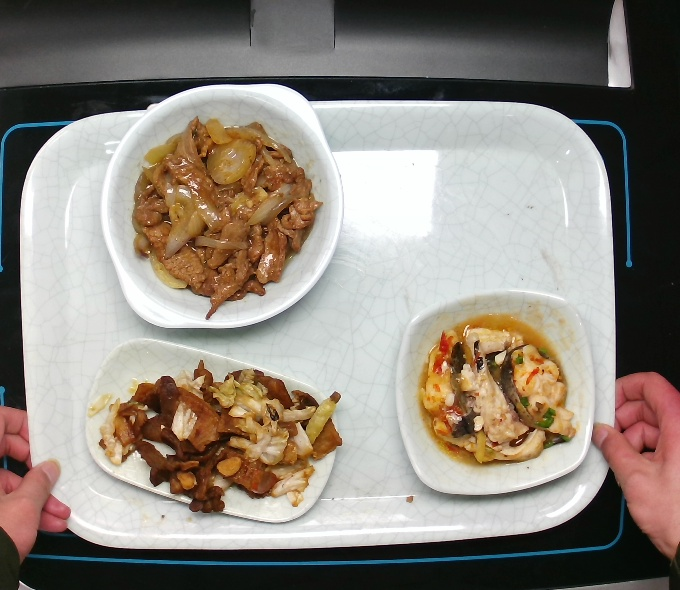wcq-DuoJiaoYuKuai: (417, 321, 589, 472)
wcq-PaoCaiRouPian: (91, 344, 352, 530)
wcq-YangCongRouPian: (115, 102, 326, 321)
